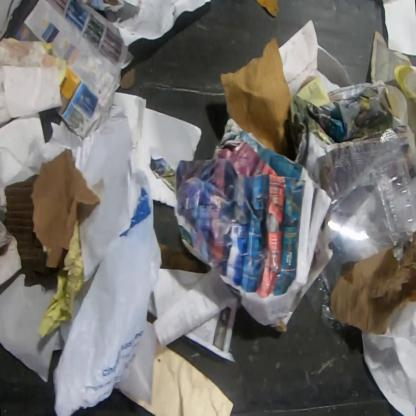cardboard: (219, 35, 292, 160), (270, 241, 334, 333), (3, 174, 59, 277), (158, 241, 208, 274), (119, 63, 137, 91), (256, 0, 282, 19)
rigid_plastic: (324, 186, 400, 264)
soft_plastic: (320, 127, 415, 263), (305, 243, 349, 332)
